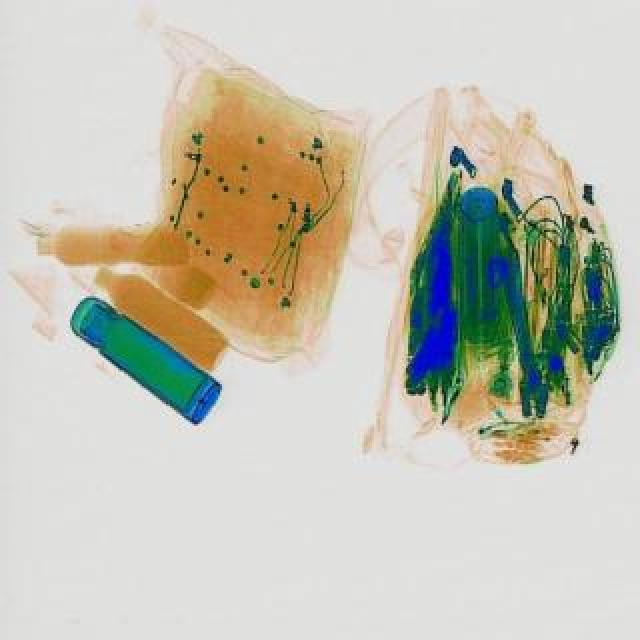scissors: (504, 246, 544, 406)
